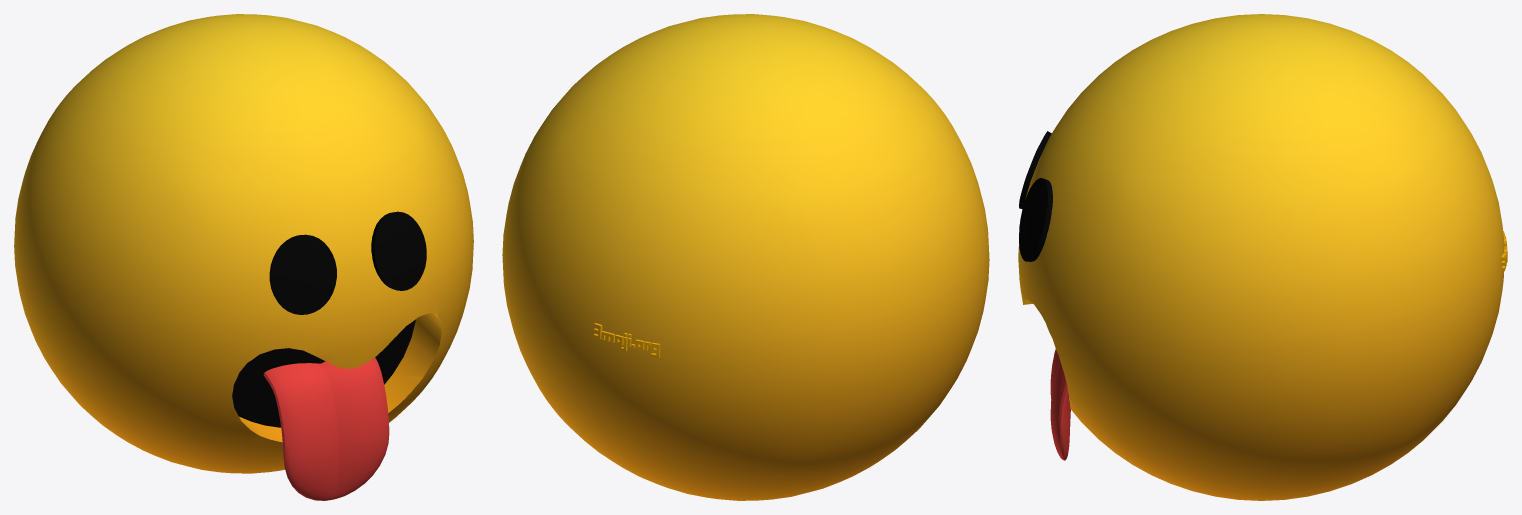
File: face_with_tongue.fbx
3 renders of one model, left to right at view 1: azimuth 30°, elevation 25°; view 2: azimuth 150°, elevation 25°; view 3: azimuth 270°, elevation 25°, orthographic. The views are drawn at different scales.
Visible parts, largest first — view 1: face_with_tongue; view 2: face_with_tongue; view 3: face_with_tongue.
Boxes of the visible parts, <box> form: face_with_tongue: <box>14,14,473,500</box>; face_with_tongue: <box>502,14,989,500</box>; face_with_tongue: <box>1018,14,1507,500</box>.
Bounding box in the file's own units: 169 × 169 × 170.
1 material, 1 textured.
